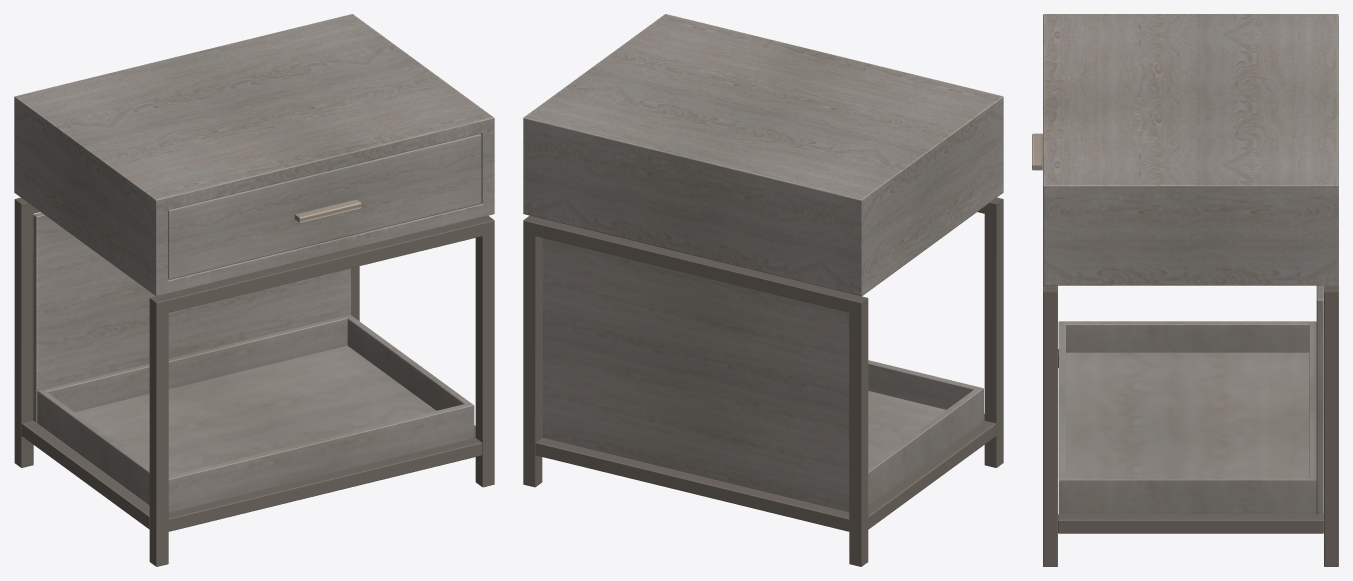
Rendered from raw_model.obj.
3 views of the same model, side by side, from view 1: azimuth 30°, elevation 25°; view 2: azimuth 150°, elevation 25°; view 3: azimuth 270°, elevation 25° (orthographic). The views are drawn at different scales.
Visible parts, largest first — view 1: solid_001, solid_002, solid_003; view 2: solid_001, solid_002; view 3: solid_001, solid_002, solid_003.
Part boxes in pixels (bbox=[...]): solid_001: bbox=[14, 14, 494, 512]; solid_002: bbox=[14, 197, 494, 566]; solid_003: bbox=[294, 199, 361, 222]; solid_001: bbox=[523, 14, 1003, 512]; solid_002: bbox=[523, 197, 1003, 566]; solid_001: bbox=[1043, 14, 1338, 514]; solid_002: bbox=[1043, 285, 1338, 566]; solid_003: bbox=[1032, 133, 1042, 170].
Bounding box in the file's own units: 0.55 × 0.5696 × 0.4148.
Materials: 1 (1 with a texture image).
